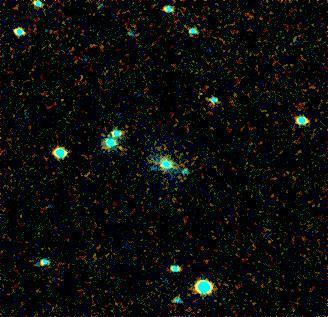star: (111, 133, 141, 163)
